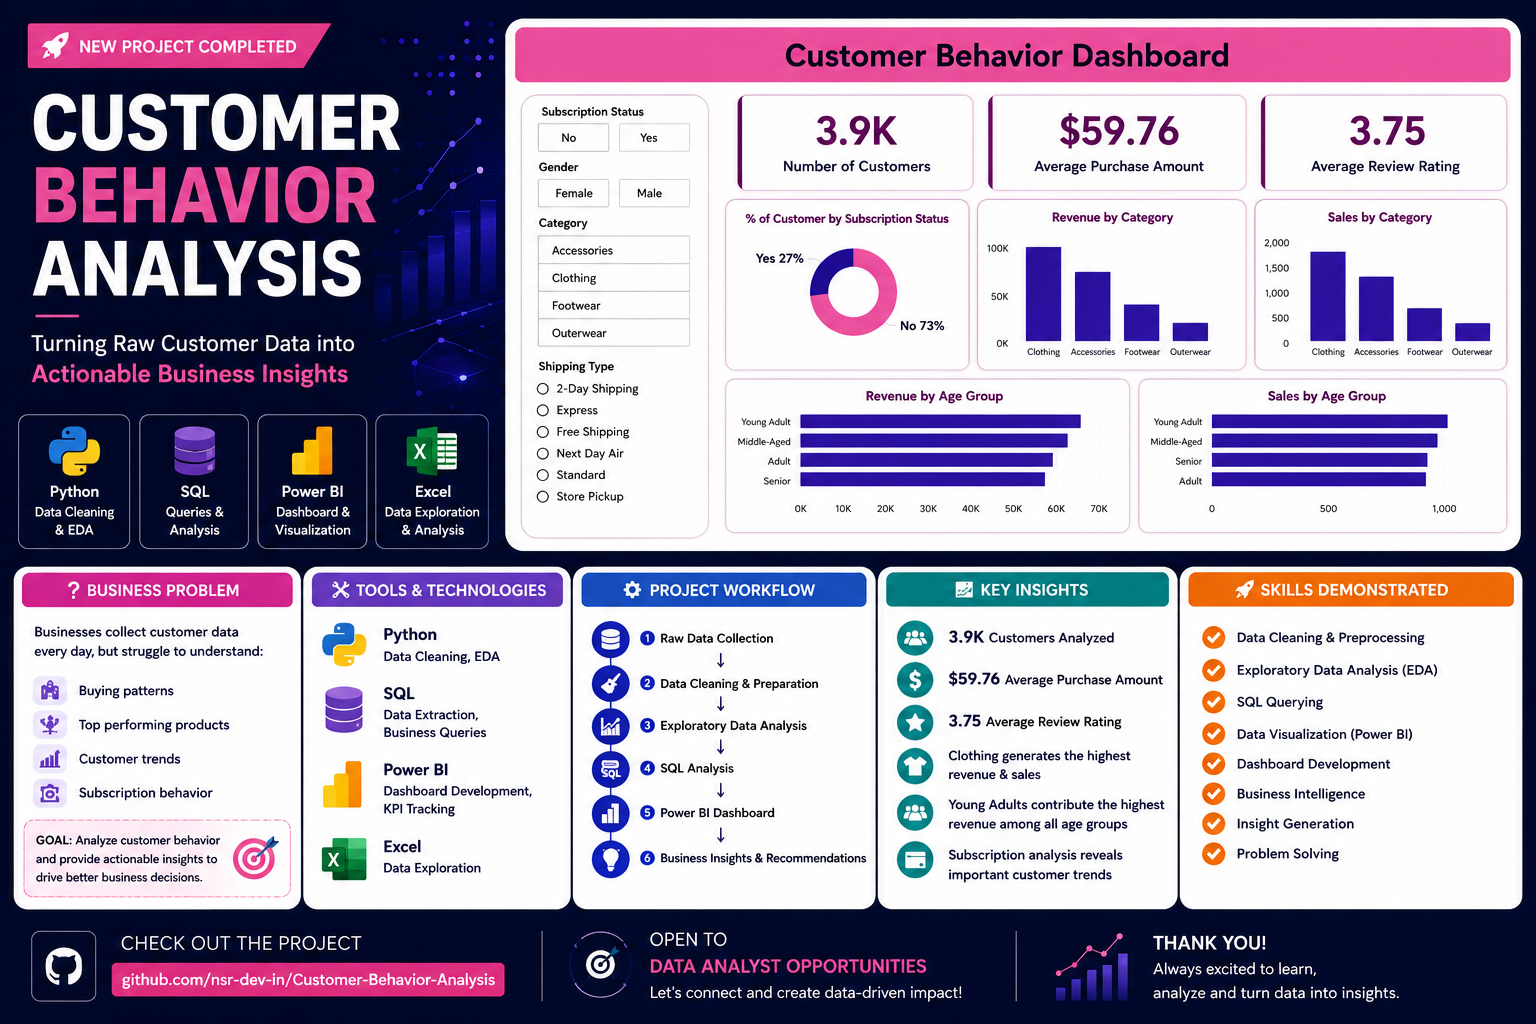

Layout of this report page (visuals, bound fields, positions):
{"tool":"powerbi","page":{"name":"Page 1","canvas":[1500,820],"ordinal":0},"visuals":[{"type":"shape","box":[0,0,1500,132.9],"z":0},{"type":"cardVisual","fields":{"Data":["public customer.Number of Customers","public customer.Average Purchase Amount","public customer.Average Review Rating"]},"box":[297.8,132.6,1202.6,228.6],"z":1000},{"type":"textbox","box":[240,22.5,1017.5,87.5],"z":2000},{"type":"shape","box":[310,340,377.6,268.9],"z":3000},{"type":"donutChart","title":"% of Customer by Subscription Status","fields":{"Category":["public customer.subscription_status"],"Y":["CountNonNull(public customer.customer_id)"]},"box":[321.4,361.4,354.3,204.3],"z":4000},{"type":"shape","box":[688.2,338,410,270],"z":5000},{"type":"shape","box":[1098.9,341.2,390,267.5],"z":6000},{"type":"clusteredColumnChart","title":"Revenue by Category","fields":{"Y":["Sum(public customer.purchase_amount)"],"Category":["public customer.category"]},"box":[707.1,358.6,371.4,230],"z":7000},{"type":"clusteredColumnChart","title":"Sales by Category","fields":{"Category":["public customer.category"],"Y":["CountNonNull(public customer.customer_id)"]},"box":[1111.4,358.6,364.3,230],"z":8000},{"type":"shape","box":[0,132.9,297.1,687.1],"z":9000},{"type":"advancedSlicerVisual","fields":{"Values":["public customer.subscription_status"]},"box":[32.9,162.9,228.6,84.3],"z":10000},{"type":"advancedSlicerVisual","fields":{"Values":["public customer.gender"]},"box":[32.9,249.5,228.6,87.1],"z":11000},{"type":"advancedSlicerVisual","fields":{"Values":["public customer.category"]},"box":[32.9,339,228.6,227.1],"z":12000},{"type":"listSlicer","fields":{"Values":["public customer.shipping_type"]},"box":[34.3,568.6,227.1,212.9],"z":13000},{"type":"shape","box":[310,608.6,638.6,211.4],"z":14000},{"type":"clusteredBarChart","title":"Revenue by Age Group","fields":{"Y":["Sum(public customer.purchase_amount)"],"Category":["public customer.age_group"]},"box":[321.4,622.9,608.6,182.9],"z":15000},{"type":"shape","box":[948.6,608.6,551.4,211.4],"z":16000},{"type":"clusteredBarChart","title":"Sales by Age Group","fields":{"Category":["public customer.age_group"],"Y":["CountNonNull(public customer.customer_id)"]},"box":[965.7,622.9,507.1,182.9],"z":17000}]}

Visuals, with their boxes on the page's 1500x820 design canvas (x1, y1, x2, y2). These are canvas units, not pixel positions in the 1536x1024 screenshot, which may show the page scaled, cropped or inside an application window:
shape: <bbox>0, 0, 1500, 133</bbox>
cardVisual - public customer.Number of Customers x public customer.Average Purchase Amount: <bbox>298, 133, 1500, 361</bbox>
textbox: <bbox>240, 22, 1258, 110</bbox>
shape: <bbox>310, 340, 688, 609</bbox>
"% of Customer by Subscription Status" donutChart: <bbox>321, 361, 676, 566</bbox>
shape: <bbox>688, 338, 1098, 608</bbox>
shape: <bbox>1099, 341, 1489, 609</bbox>
"Revenue by Category" clusteredColumnChart: <bbox>707, 359, 1078, 589</bbox>
"Sales by Category" clusteredColumnChart: <bbox>1111, 359, 1476, 589</bbox>
shape: <bbox>0, 133, 297, 820</bbox>
advancedSlicerVisual - public customer.subscription_status: <bbox>33, 163, 262, 247</bbox>
advancedSlicerVisual - public customer.gender: <bbox>33, 250, 262, 337</bbox>
advancedSlicerVisual - public customer.category: <bbox>33, 339, 262, 566</bbox>
listSlicer - public customer.shipping_type: <bbox>34, 569, 261, 782</bbox>
shape: <bbox>310, 609, 949, 820</bbox>
"Revenue by Age Group" clusteredBarChart: <bbox>321, 623, 930, 806</bbox>
shape: <bbox>949, 609, 1500, 820</bbox>
"Sales by Age Group" clusteredBarChart: <bbox>966, 623, 1473, 806</bbox>
